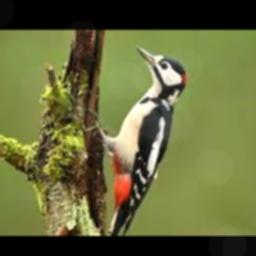Woodpecker: (82, 45, 186, 236)
